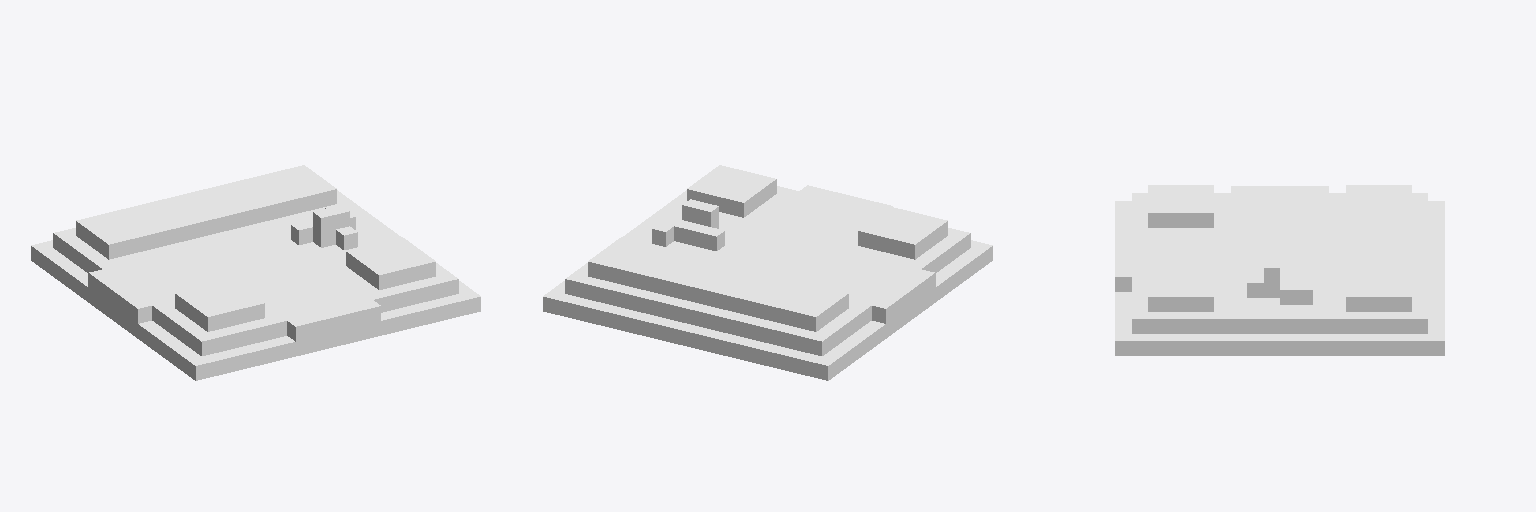
File: cornercrops.obj
The picture shows the model from 3 angles: view 1: azimuth 30°, elevation 25°; view 2: azimuth 150°, elevation 25°; view 3: azimuth 270°, elevation 25°; orthographic projection.
Size of the model in its own units: 20 by 4 by 20.